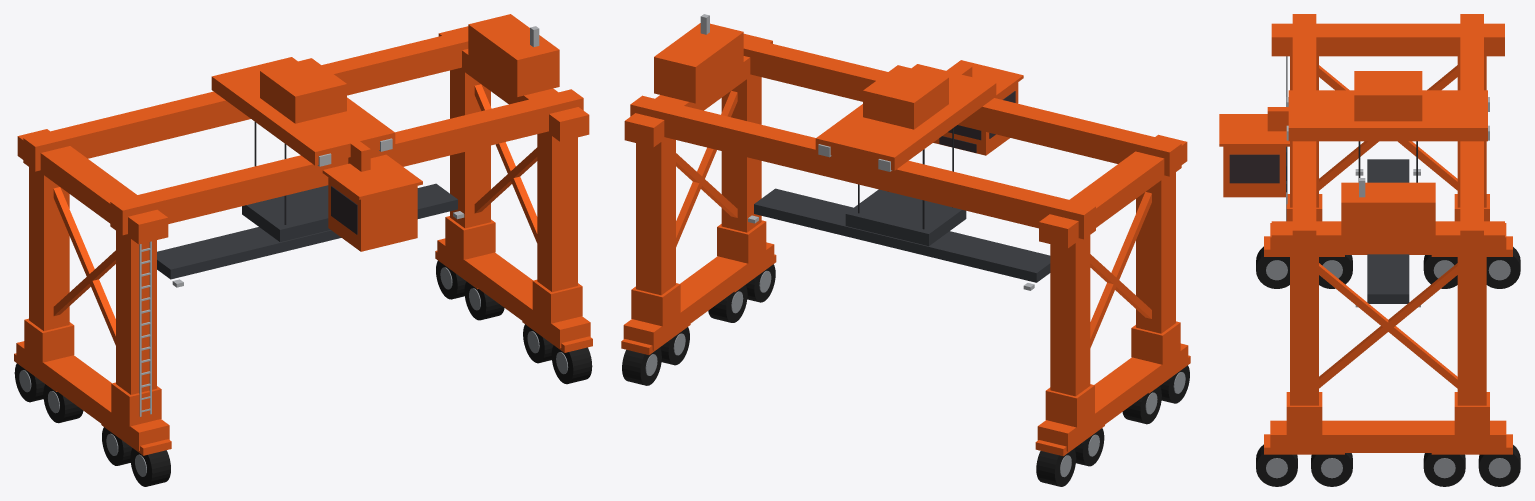
Rendered from mj1200r_rtg.glb.
3 views of the same model, side by side, from view 1: azimuth 30°, elevation 25°; view 2: azimuth 150°, elevation 25°; view 3: azimuth 270°, elevation 25° (orthographic). The views are drawn at different scales.
Parts seen in each view (by area): view 1: gantry_body, trolley, spreader, operator_cab, tires, wheel_hubs, details, cab_glass; view 2: gantry_body, spreader, trolley, tires, operator_cab, wheel_hubs, cab_glass; view 3: gantry_body, trolley, tires, operator_cab, spreader, wheel_hubs, cab_glass.
Part boxes in pixels (x1,y1,x2,y2): gantry_body: (14, 14, 592, 455); trolley: (211, 57, 395, 165); spreader: (157, 183, 457, 279); operator_cab: (322, 140, 422, 251); tires: (14, 260, 592, 486); wheel_hubs: (19, 267, 568, 476); details: (139, 26, 539, 416); cab_glass: (331, 186, 357, 234); gantry_body: (621, 23, 1190, 456); spreader: (754, 188, 1050, 282); trolley: (815, 64, 996, 170); tires: (622, 264, 1189, 486); operator_cab: (933, 60, 1023, 155); wheel_hubs: (645, 271, 1185, 477); cab_glass: (939, 91, 1015, 152); gantry_body: (1264, 14, 1512, 454); trolley: (1288, 71, 1487, 141); tires: (1256, 246, 1520, 486); operator_cab: (1219, 107, 1293, 197); spreader: (1367, 159, 1409, 303); wheel_hubs: (1266, 260, 1510, 478); cab_glass: (1229, 146, 1286, 192).
Bounding box in the file's own units: 19.61 × 12.9 × 11.5.
